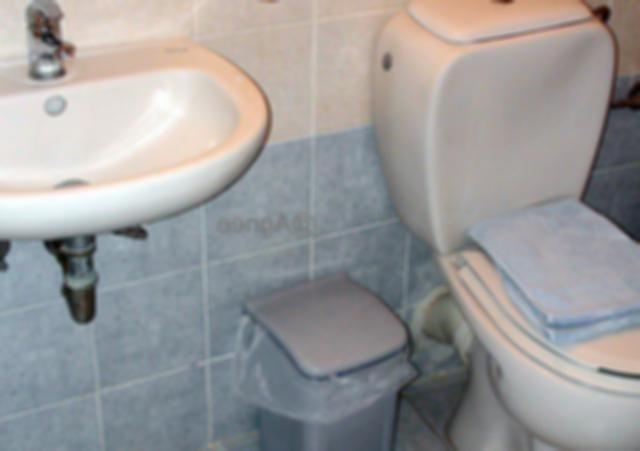Bote de Basura: (236, 272, 407, 450)
Lavamanos: (0, 0, 281, 271)
Sanitario: (366, 0, 639, 450)
